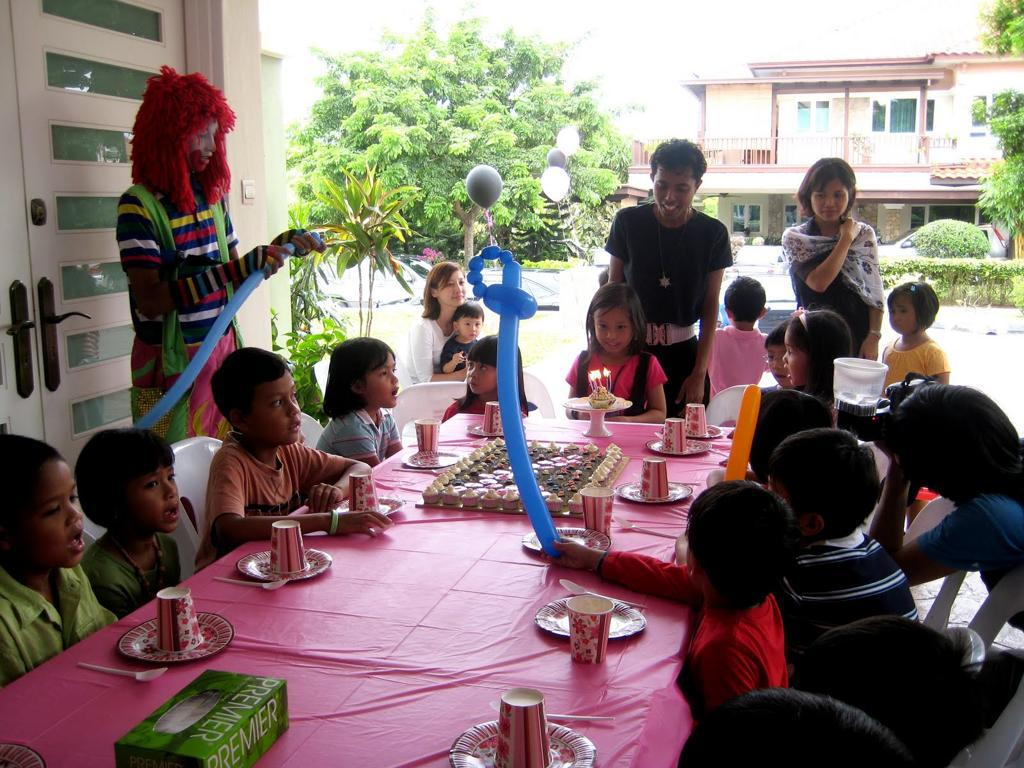face: (21, 457, 86, 569), (121, 464, 180, 533), (244, 376, 302, 446), (653, 172, 696, 221), (186, 115, 220, 171), (365, 355, 399, 409), (594, 309, 635, 352), (811, 180, 849, 222), (783, 334, 811, 385), (768, 341, 796, 388), (467, 355, 499, 394), (889, 297, 920, 335), (438, 271, 467, 307), (459, 315, 483, 340)
